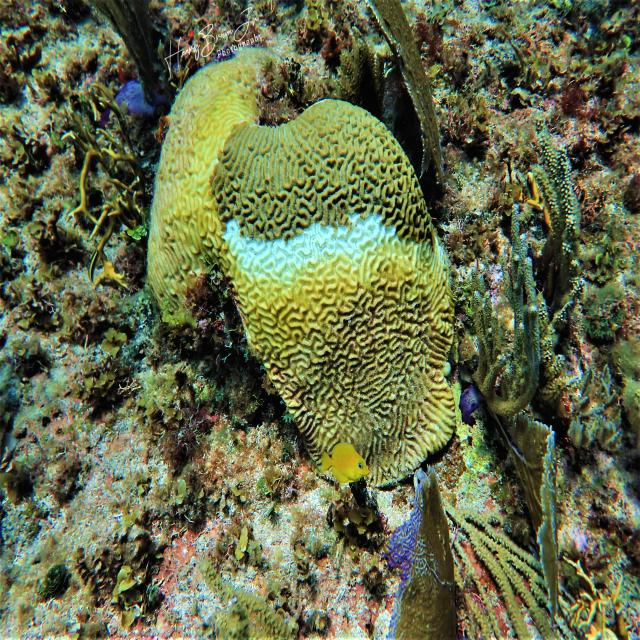Coral: (148, 45, 456, 490), (487, 406, 558, 630), (364, 0, 446, 187), (472, 203, 541, 418), (532, 128, 582, 406), (382, 464, 458, 640)
